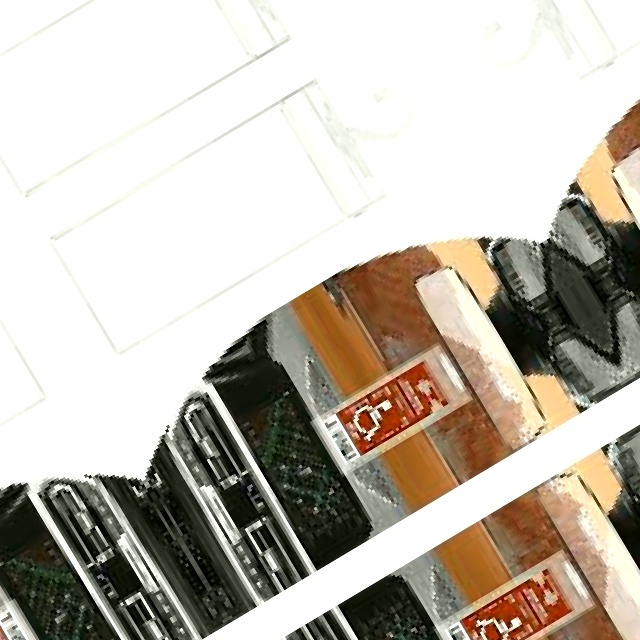ISA: (348, 390, 403, 442), (474, 601, 529, 640), (0, 628, 5, 640)
